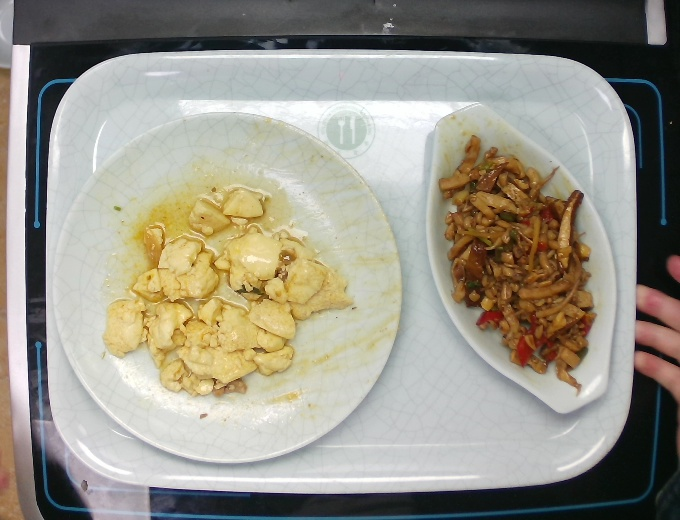JYsf-Da_Yuan_Pan: (50, 110, 404, 465)
JYsf-Yu_Pan: (422, 100, 618, 416)
